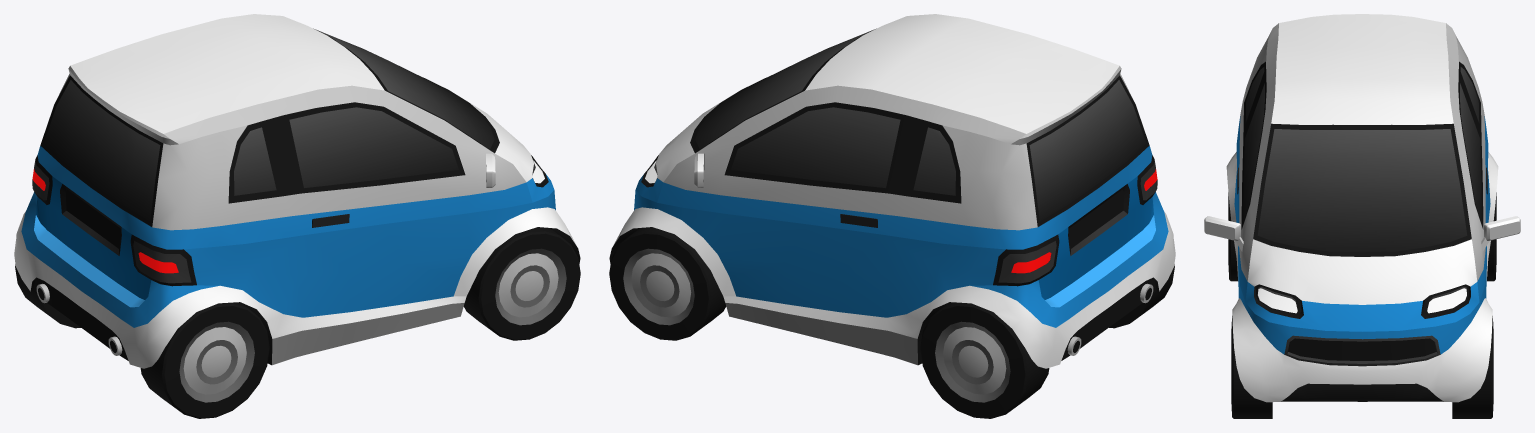
Rendered from Car_259.glb.
The picture shows the model from 3 angles, left to right: view 1: azimuth 30°, elevation 25°; view 2: azimuth 150°, elevation 25°; view 3: azimuth 270°, elevation 25°; orthographic projection. The views are drawn at different scales.
Parts seen in each view (by area): view 1: Car_259, wheel_3_Car_259_Wheel_2R, wheel_1_Car_259_Wheel_1R, wheel_2_Car_259_Wheel_2L; view 2: Car_259, wheel_2_Car_259_Wheel_2L, wheel_0_Car_259_Wheel_1L, wheel_3_Car_259_Wheel_2R; view 3: Car_259, wheel_0_Car_259_Wheel_1L, wheel_1_Car_259_Wheel_1R, wheel_2_Car_259_Wheel_2L, wheel_3_Car_259_Wheel_2R.
Part boxes in pixels (bbox=[...]): Car_259: bbox=[14, 14, 580, 368]; wheel_3_Car_259_Wheel_2R: bbox=[140, 302, 269, 418]; wheel_1_Car_259_Wheel_1R: bbox=[463, 227, 580, 340]; wheel_2_Car_259_Wheel_2L: bbox=[15, 256, 142, 328]; Car_259: bbox=[609, 14, 1175, 368]; wheel_2_Car_259_Wheel_2L: bbox=[920, 302, 1049, 418]; wheel_0_Car_259_Wheel_1L: bbox=[609, 227, 726, 340]; wheel_3_Car_259_Wheel_2R: bbox=[1047, 256, 1174, 328]; Car_259: bbox=[1204, 14, 1520, 402]; wheel_0_Car_259_Wheel_1L: bbox=[1452, 316, 1493, 418]; wheel_1_Car_259_Wheel_1R: bbox=[1231, 316, 1272, 418]; wheel_2_Car_259_Wheel_2L: bbox=[1487, 192, 1496, 281]; wheel_3_Car_259_Wheel_2R: bbox=[1228, 192, 1237, 281].
Size of the model in its own units: 2.7 by 1.63 by 1.85.
Materials: 2 (2 with a texture image).
